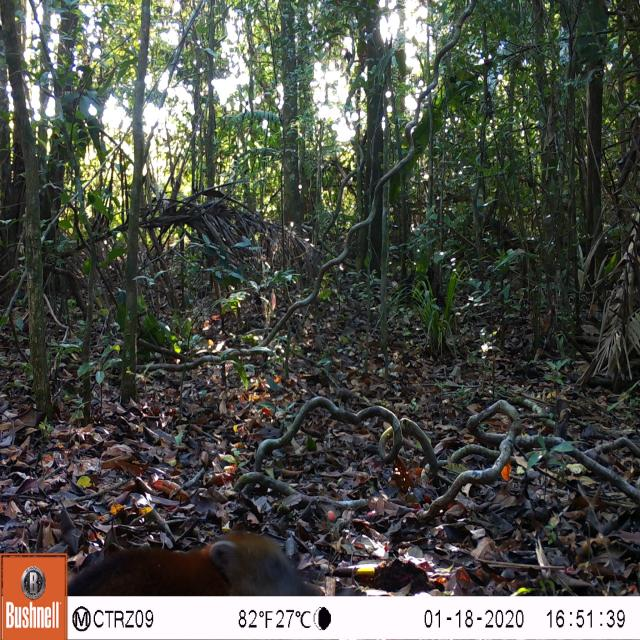South American Coati: (69, 522, 333, 593)
